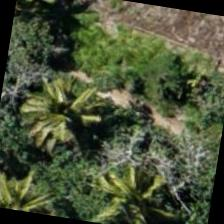Kelapa_Sawit: (8, 58, 111, 162), (84, 162, 183, 223)
